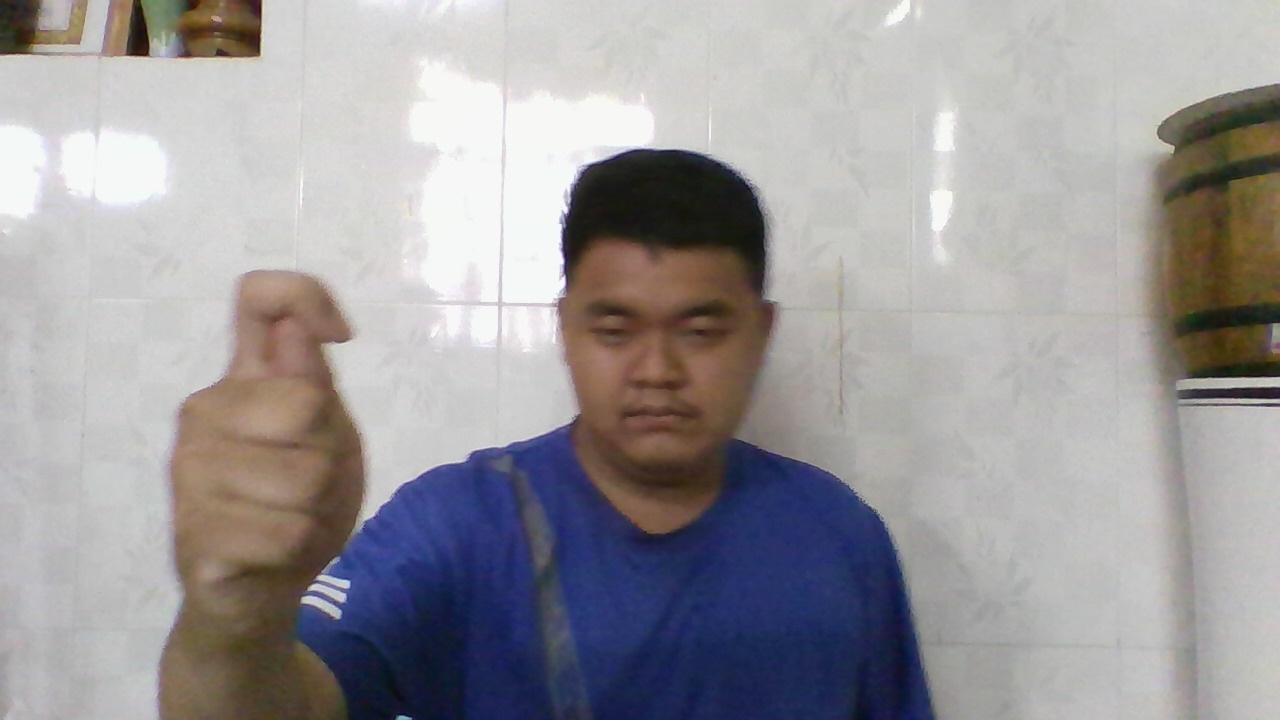X: (167, 277, 358, 644)
